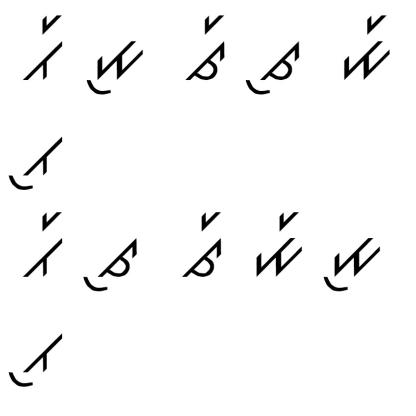bar: (17, 209, 69, 279)
baw: (4, 120, 66, 192), (5, 329, 66, 388)
car: (176, 209, 229, 280), (180, 11, 233, 82)
caw: (78, 237, 141, 298), (244, 34, 304, 96)
mar: (247, 202, 309, 278), (336, 11, 391, 83), (15, 15, 68, 84)
maw: (322, 226, 387, 296), (84, 29, 146, 100)
